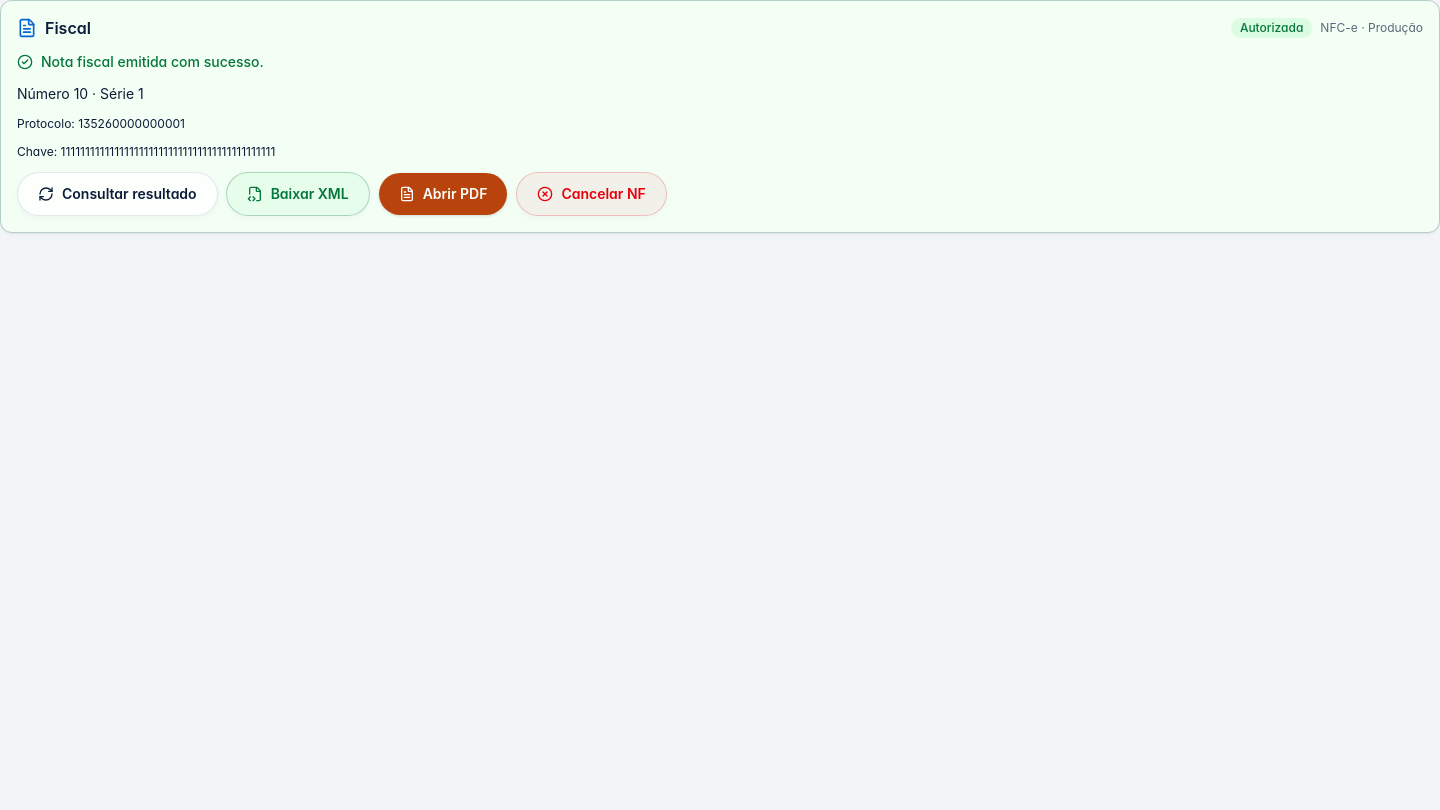
Test: exige justificativa e confirmação para cancelar, preserva erro e impede clique duplicado
Click the button "Cancelar NF": [592, 194] box [516,172,667,216]
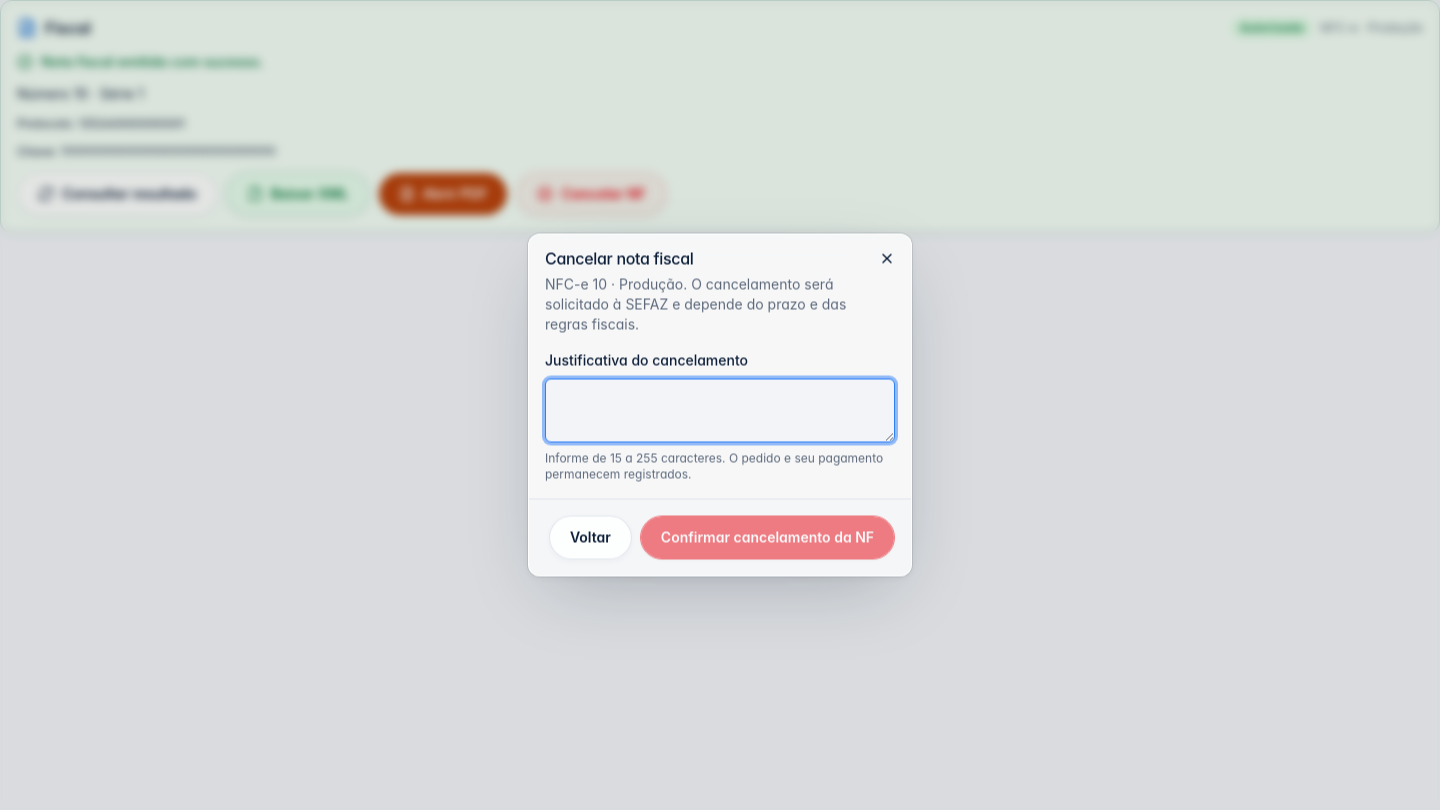
Now the button "Confirmar cancelamento da NF" is disabled, box [640,516,895,560]
In the text box labelled "Justificativa do cancelamento": [720, 410] box [545,378,895,442], type "Pedido duplicado pelo cliente."
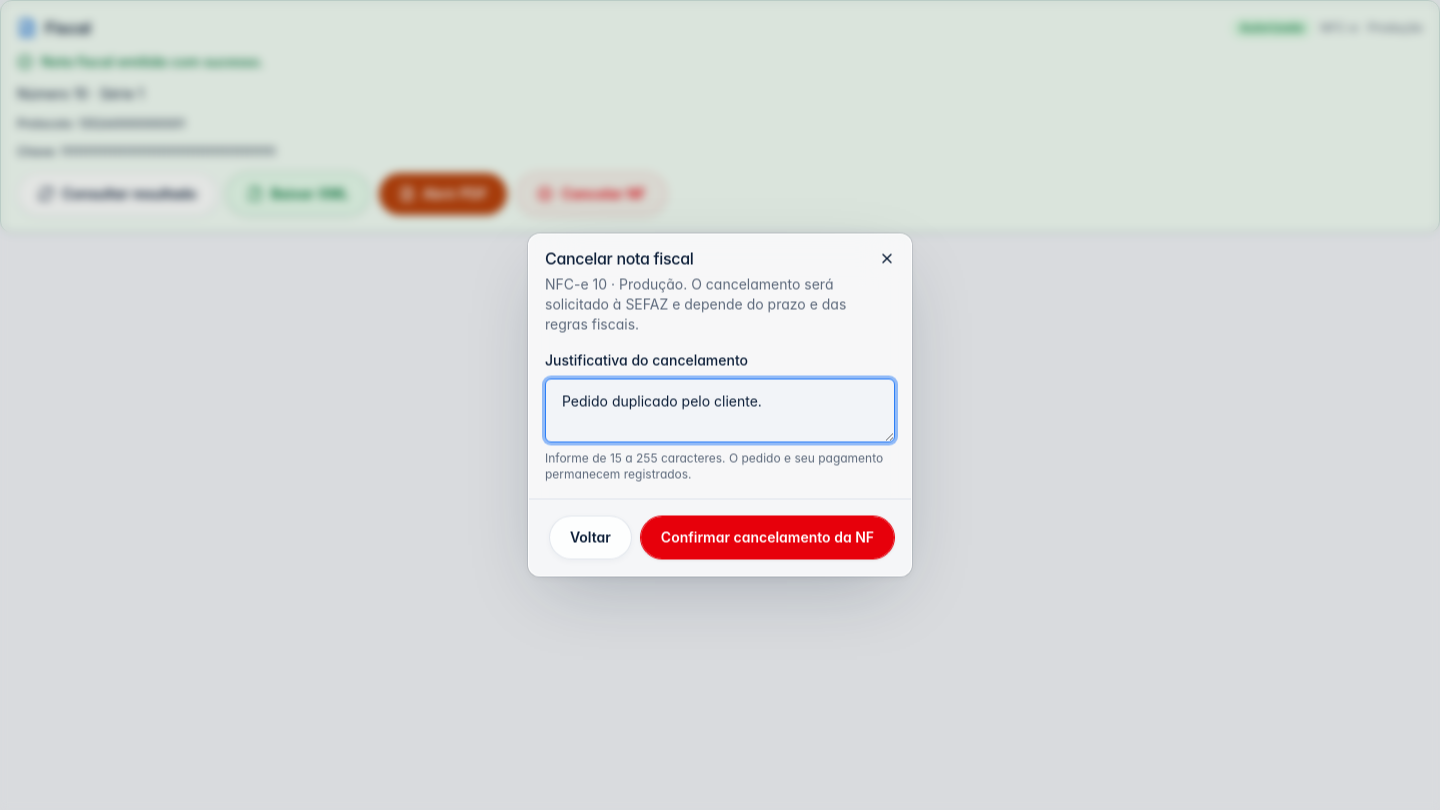
Double-click the button "Confirmar cancelamento da NF": [767, 538] box [640,516,895,560]
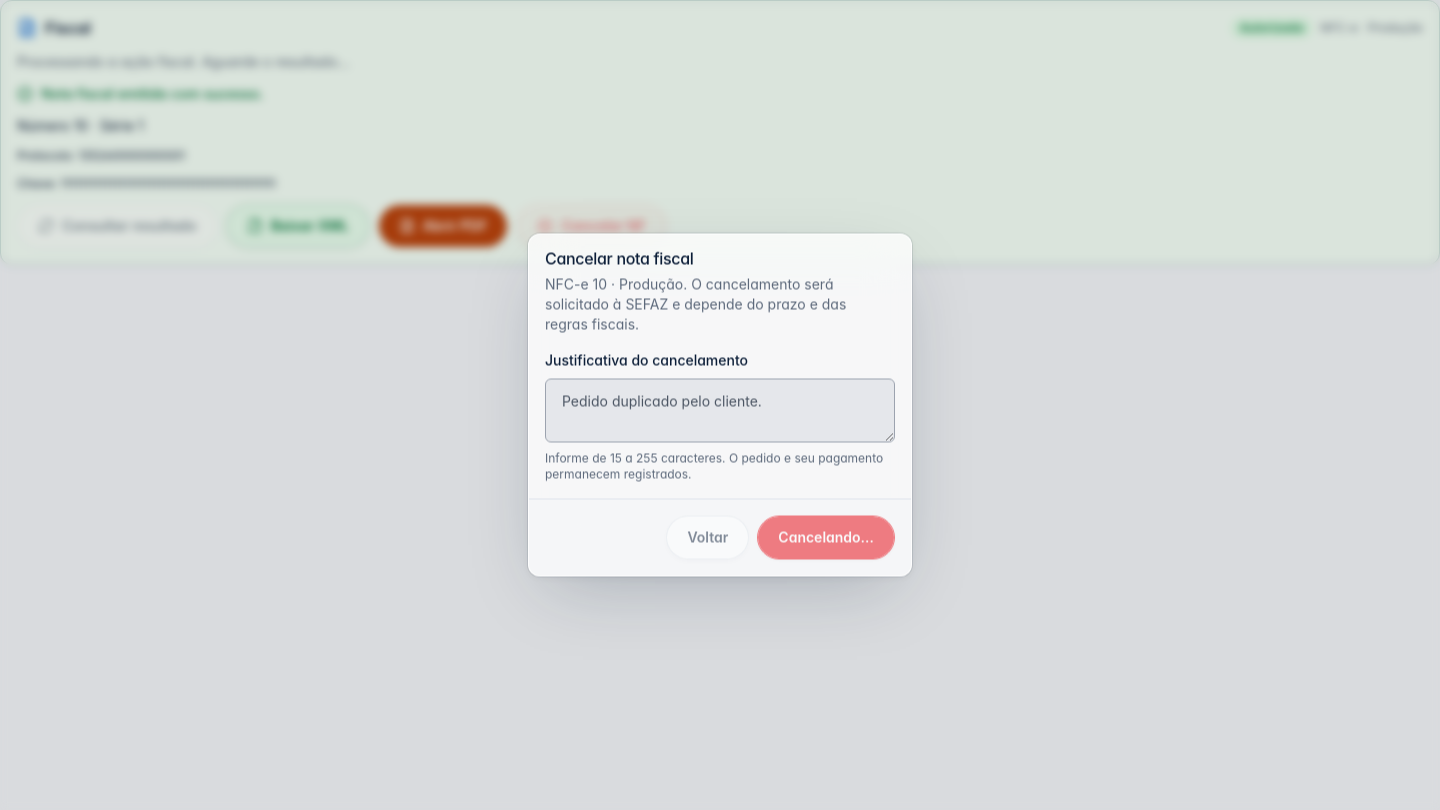
Press Escape
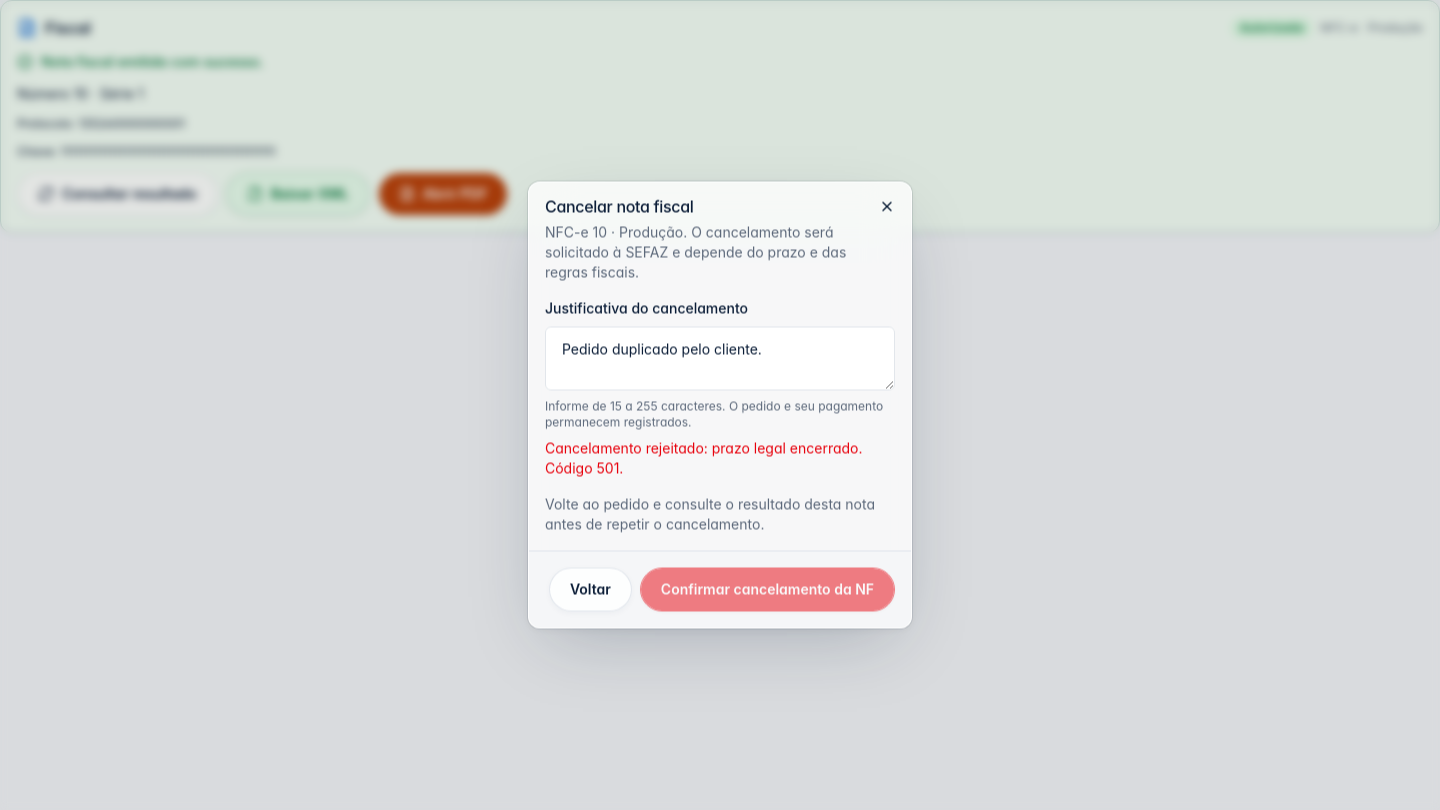
Now the dialog named "Cancelar nota fiscal" is shown, box [528,182,912,628]
Now the message "Cancelamento rejeitado: prazo legal encerrado. Código 501." is shown, box [545,438,895,478]
